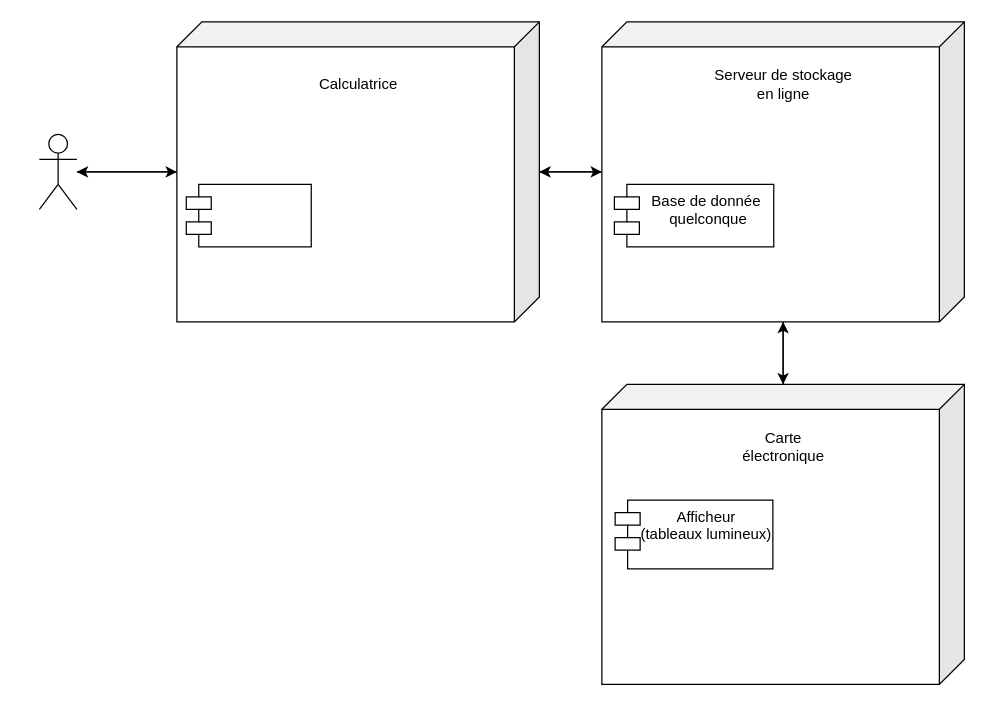
Some shapes in this 986 by 706 pixel diagram are drawn without their labels. Here are the shapes that lost their labels. From the top down, the centre of each, then its label:
point (57, 171): Professeur
point (248, 215): Application de partage
